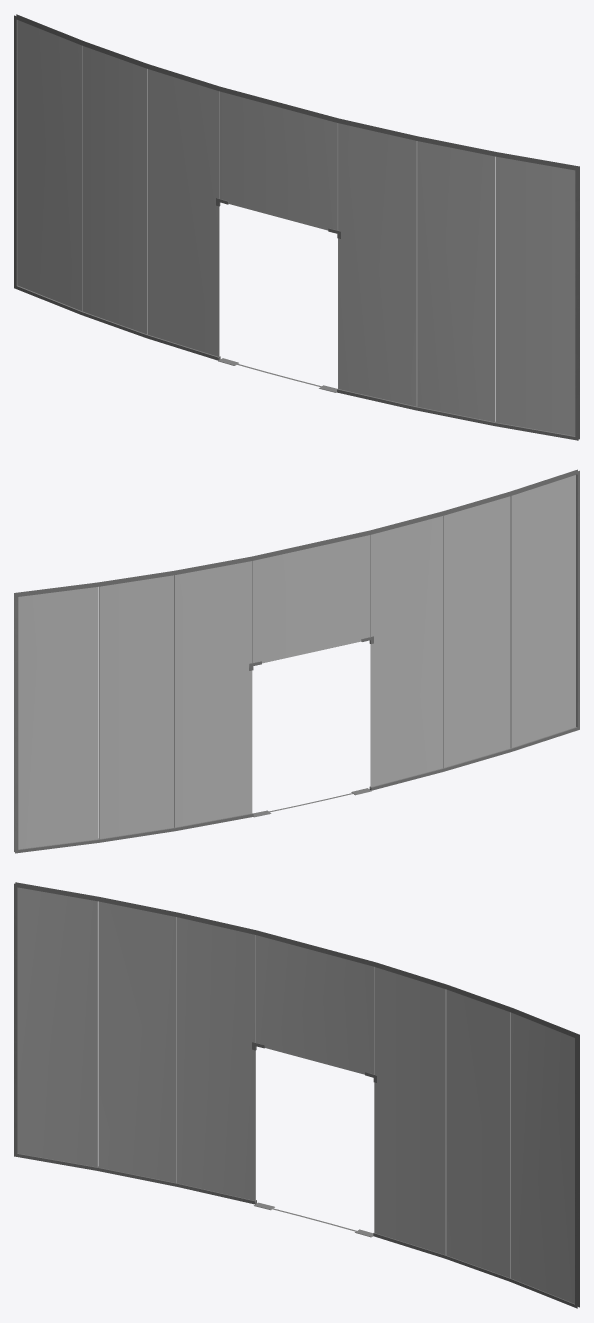
File: SM_StoreFront_Atrium_05.fbx
3 views of the same model, one above another, from view 1: azimuth 90°, elevation 25°; view 2: azimuth 150°, elevation 25°; view 3: azimuth 270°, elevation 25° (orthographic). The views are drawn at different scales.
Parts seen in each view (by area): view 1: SM_StoreFront_Atrium_05_LOD0; view 2: SM_StoreFront_Atrium_05_LOD0; view 3: SM_StoreFront_Atrium_05_LOD0.
Boxes of the visible parts, x1=… form: SM_StoreFront_Atrium_05_LOD0: x1=14, y1=14, x2=579, y2=440; SM_StoreFront_Atrium_05_LOD0: x1=14, y1=469, x2=579, y2=853; SM_StoreFront_Atrium_05_LOD0: x1=14, y1=882, x2=579, y2=1308.
Size of the model in its own units: 519 by 808 by 430.
